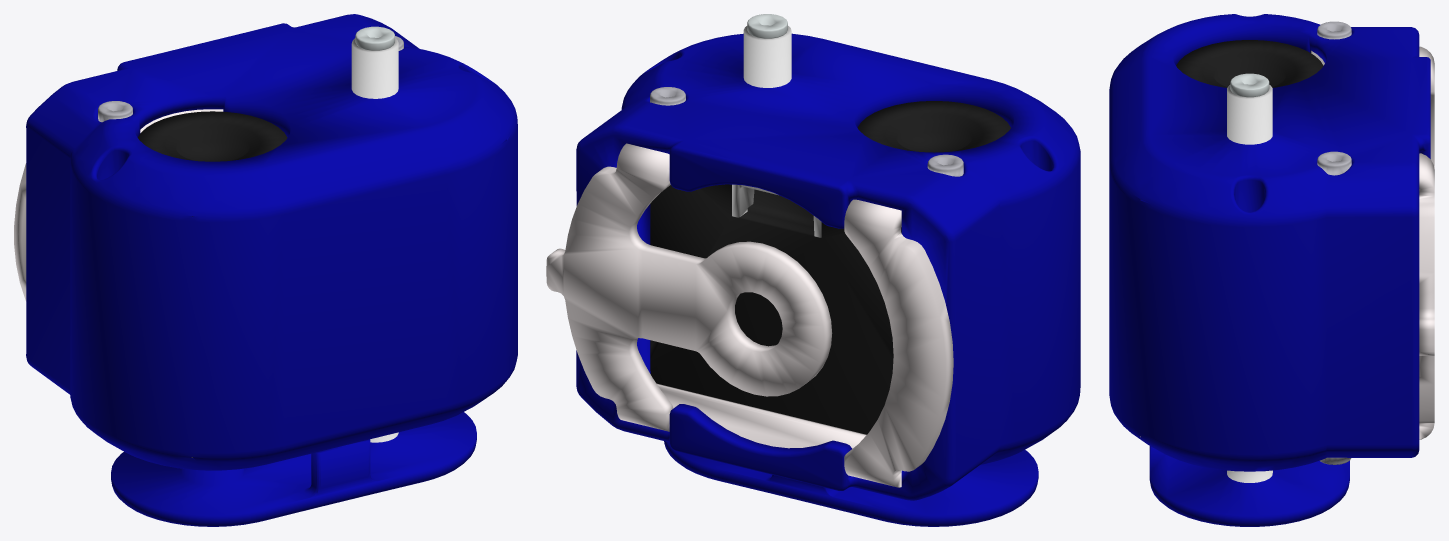
The model's file is wide_two_finger_gripper_actuator.obj.
The picture shows the model from 3 angles, left to right: view 1: azimuth 30°, elevation 25°; view 2: azimuth 150°, elevation 25°; view 3: azimuth 270°, elevation 25°; orthographic projection. The views are drawn at different scales.
Bounding box in the file's own units: 0.0604 × 0.0612 × 0.0422.
